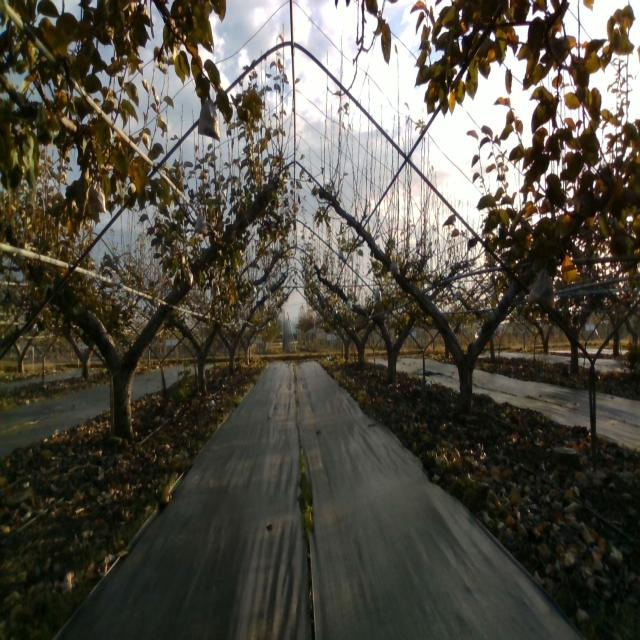pearbags: (527, 267, 555, 310), (198, 99, 220, 142), (88, 178, 106, 214), (194, 207, 208, 235)
